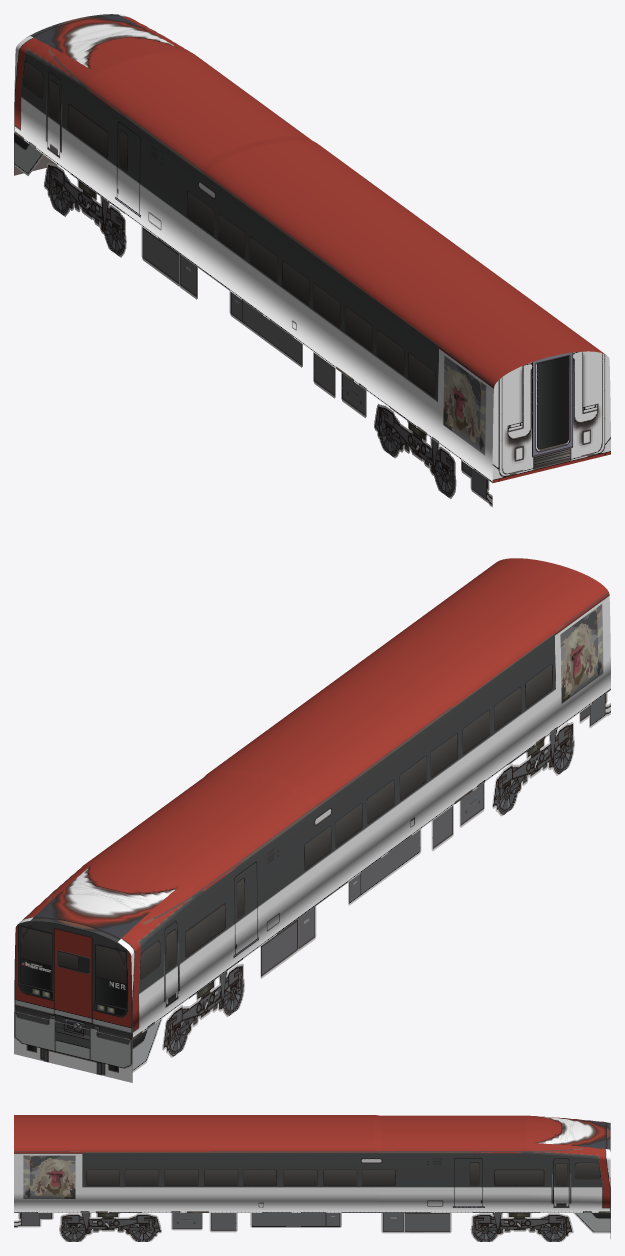
File: car3.glb
3 renders of one model, top to bottom at view 1: azimuth 30°, elevation 25°; view 2: azimuth 150°, elevation 25°; view 3: azimuth 270°, elevation 25°, orthographic. The views are drawn at different scales.
Visible parts, largest first — view 1: car3; view 2: car3; view 3: car3.
Part boxes in pixels (box(x1,y1,x2,y2)): car3: box(14, 14, 610, 507); car3: box(14, 558, 610, 1082); car3: box(14, 1115, 610, 1241).
Bounding box in the file's own units: 2.95 × 3.79 × 20.64.
Materials: 6 (5 with a texture image).
